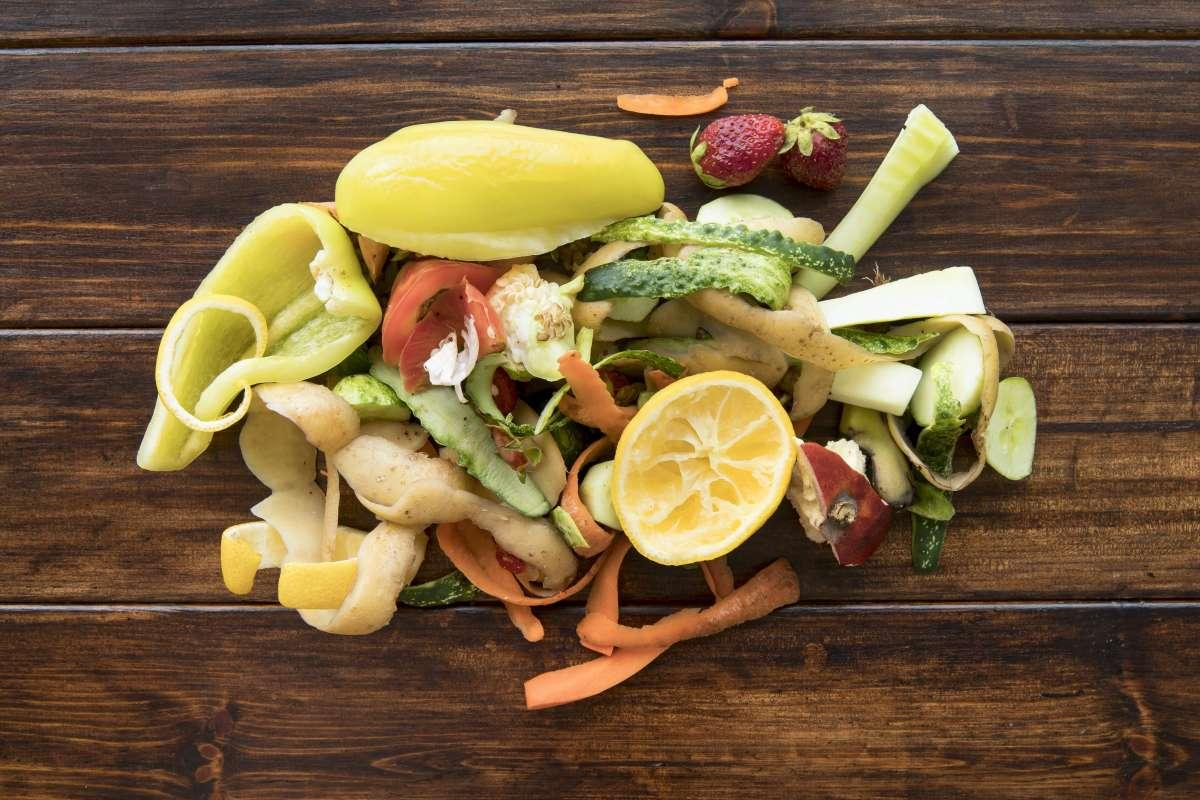organic: (136, 201, 385, 469), (239, 380, 470, 636), (334, 120, 666, 261), (607, 370, 800, 567), (806, 105, 960, 302), (682, 288, 978, 371), (576, 555, 801, 653), (599, 216, 865, 280), (385, 261, 509, 398), (156, 292, 267, 431), (785, 437, 895, 570), (219, 520, 373, 610), (487, 267, 589, 382), (829, 264, 1004, 330), (585, 253, 789, 309), (912, 407, 970, 576), (519, 658, 705, 710), (690, 116, 785, 191), (778, 106, 851, 193), (982, 373, 1035, 482), (829, 358, 923, 418), (395, 568, 498, 614), (616, 78, 738, 116), (332, 376, 414, 426), (305, 493, 305, 494)
